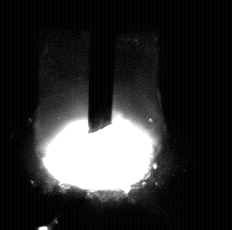arame: (89, 0, 114, 133)
poca: (36, 0, 161, 230)
